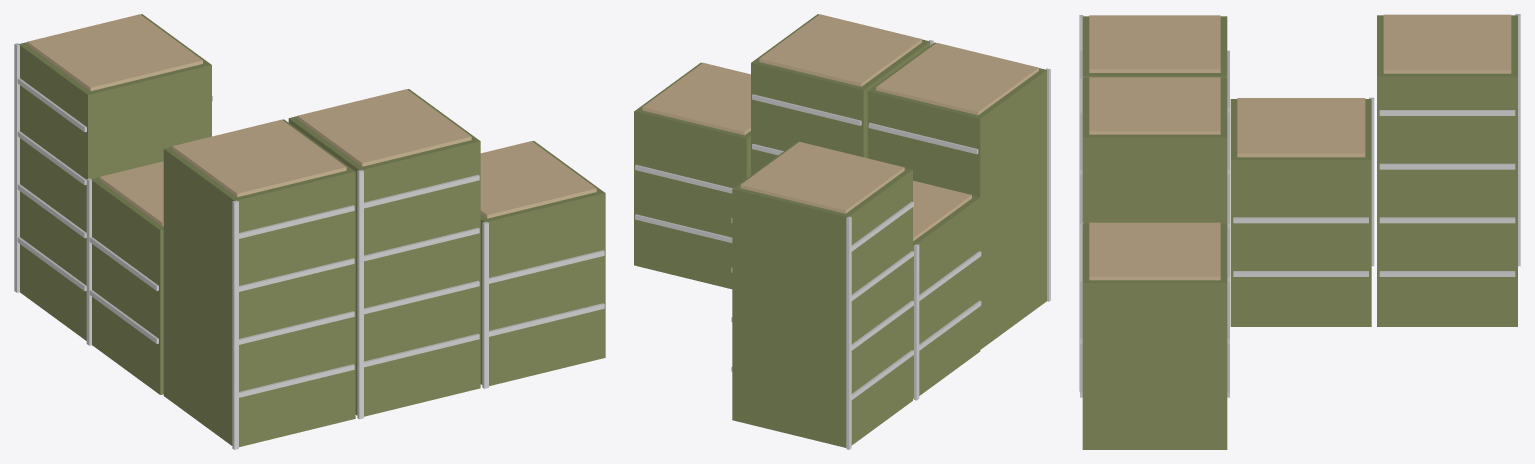
Rendered from SM_HescoEsquina_v2_Escalonado_e0_Sano_LOD0.fbx.
The picture shows the model from 3 angles, left to right: view 1: azimuth 30°, elevation 25°; view 2: azimuth 150°, elevation 25°; view 3: azimuth 270°, elevation 25°; orthographic projection. The views are drawn at different scales.
Parts seen in each view (by area): view 1: SM_hesco_piezas_v8_LOD0; view 2: SM_hesco_piezas_v8_LOD0; view 3: SM_hesco_piezas_v8_LOD0.
Part boxes in pixels (bbox=[...]): SM_hesco_piezas_v8_LOD0: bbox=[14, 14, 605, 449]; SM_hesco_piezas_v8_LOD0: bbox=[634, 14, 1050, 449]; SM_hesco_piezas_v8_LOD0: bbox=[1079, 14, 1520, 449].
Bounding box in the file's own units: 3.33 × 2.13 × 3.35.
